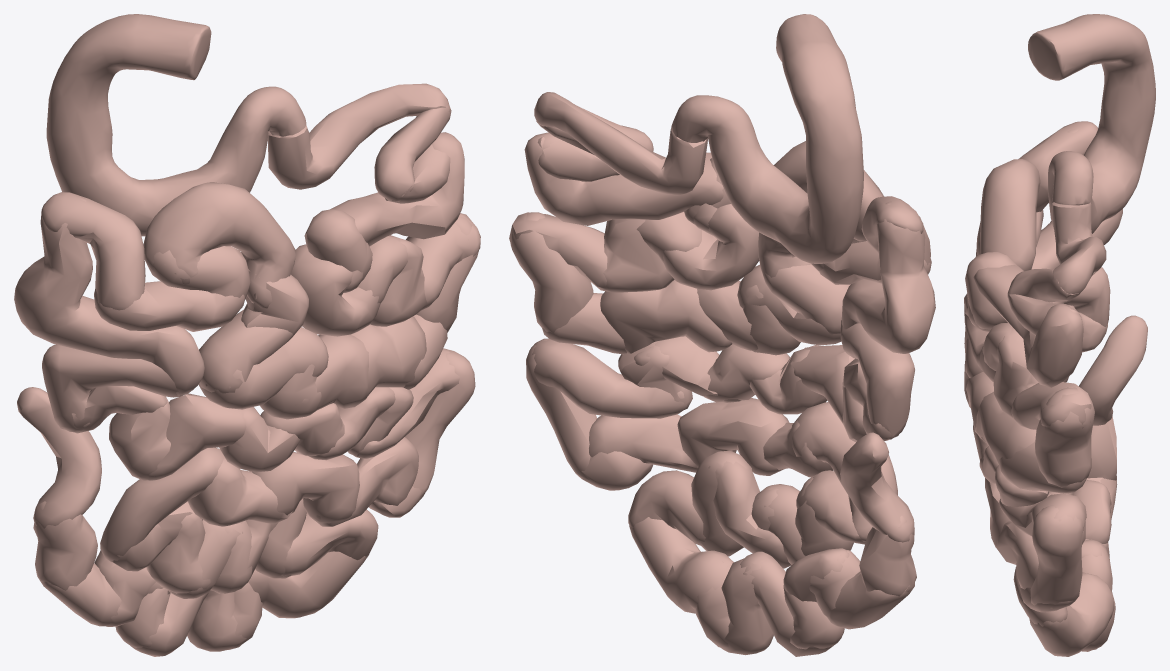
The model's file is small-intestine.glb.
3 views of the same model, side by side, from view 1: azimuth 30°, elevation 25°; view 2: azimuth 150°, elevation 25°; view 3: azimuth 270°, elevation 25° (orthographic). The views are drawn at different scales.
Parts seen in each view (by area): view 1: bp3d_FMA7206_FJ2573, bp3d_FMA16983_FJ2621, bp3d_FMA16983_FJ2616, bp3d_FMA16981_FJ2606, bp3d_FMA16983_FJ2620, bp3d_FMA14964_FJ2574, bp3d_FMA11338_FJ2599, bp3d_FMA16981_FJ2623, bp3d_FMA14965_FJ2580, bp3d_FMA14965_FJ2578, bp3d_FMA16983_FJ2619, bp3d_FMA16981_FJ2626 (+42 smaller); view 2: bp3d_FMA7206_FJ2573, bp3d_FMA16983_FJ2621, bp3d_FMA16981_FJ2623, bp3d_FMA16981_FJ2606, bp3d_FMA14964_FJ2605, bp3d_FMA16982_FJ2610, bp3d_FMA14965_FJ2578, bp3d_FMA14966_FJ2589, bp3d_FMA16981_FJ2626, bp3d_FMA16982_FJ2608, bp3d_FMA14964_FJ2574, bp3d_FMA11338_FJ2599 (+41 smaller); view 3: bp3d_FMA7206_FJ2573, bp3d_FMA16983_FJ2616, bp3d_FMA16981_FJ2623, bp3d_FMA14964_FJ2575, bp3d_FMA11338_FJ2599, bp3d_FMA16982_FJ2608, bp3d_FMA14966_FJ2589, bp3d_FMA16981_FJ2606, bp3d_FMA16982_FJ2607, bp3d_FMA16982_FJ2610, bp3d_FMA16983_FJ2620, bp3d_FMA16982_FJ2628 (+24 smaller).
Boxes of the visible parts, x1,y1,x2,y2 form: bp3d_FMA7206_FJ2573: [46, 14, 306, 236]; bp3d_FMA16983_FJ2621: [14, 195, 204, 396]; bp3d_FMA16983_FJ2616: [143, 182, 295, 308]; bp3d_FMA16981_FJ2606: [267, 83, 450, 189]; bp3d_FMA16983_FJ2620: [41, 192, 145, 310]; bp3d_FMA14964_FJ2574: [42, 344, 193, 432]; bp3d_FMA11338_FJ2599: [17, 387, 101, 528]; bp3d_FMA16981_FJ2623: [330, 132, 464, 246]; bp3d_FMA14965_FJ2580: [100, 447, 224, 562]; bp3d_FMA14965_FJ2578: [252, 452, 359, 523]; bp3d_FMA16983_FJ2619: [94, 281, 244, 331]; bp3d_FMA16981_FJ2626: [290, 244, 380, 336]; bp3d_FMA7206_FJ2573: [671, 14, 863, 263]; bp3d_FMA16983_FJ2621: [841, 201, 935, 353]; bp3d_FMA16981_FJ2623: [524, 132, 723, 225]; bp3d_FMA16981_FJ2606: [534, 92, 708, 195]; bp3d_FMA14964_FJ2605: [532, 339, 686, 418]; bp3d_FMA16982_FJ2610: [600, 279, 732, 353]; bp3d_FMA14965_FJ2578: [677, 398, 789, 475]; bp3d_FMA14966_FJ2589: [629, 517, 733, 613]; bp3d_FMA16981_FJ2626: [662, 204, 759, 290]; bp3d_FMA16982_FJ2608: [510, 212, 593, 333]; bp3d_FMA14964_FJ2574: [840, 320, 914, 439]; bp3d_FMA11338_FJ2599: [840, 432, 914, 542]; bp3d_FMA7206_FJ2573: [1028, 14, 1155, 233]; bp3d_FMA16983_FJ2616: [980, 159, 1040, 270]; bp3d_FMA16981_FJ2623: [973, 265, 1083, 387]; bp3d_FMA14964_FJ2575: [1030, 505, 1082, 612]; bp3d_FMA11338_FJ2599: [1079, 315, 1147, 425]; bp3d_FMA16982_FJ2608: [1035, 387, 1094, 487]; bp3d_FMA14966_FJ2589: [1029, 572, 1114, 656]; bp3d_FMA16981_FJ2606: [1052, 202, 1106, 295]; bp3d_FMA16982_FJ2607: [1011, 382, 1091, 429]; bp3d_FMA16982_FJ2610: [976, 391, 1036, 466]; bp3d_FMA16983_FJ2620: [1018, 121, 1098, 212]; bp3d_FMA16982_FJ2628: [993, 328, 1038, 420].
Bounding box in the file's own units: 0.1937 × 0.2718 × 0.0795.
